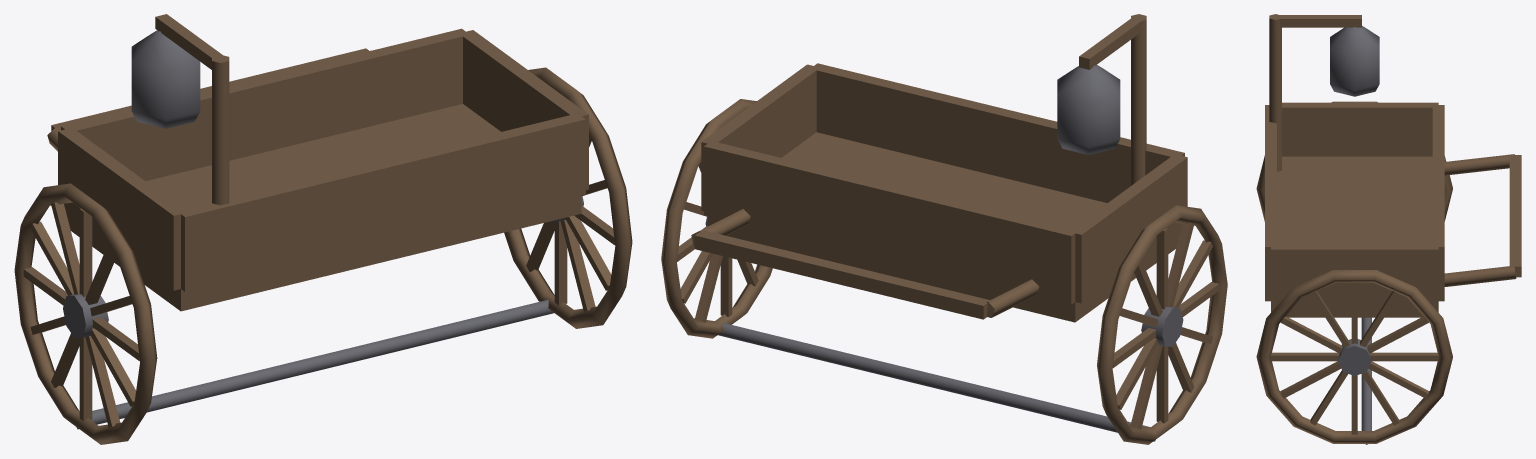
Rendered from LanternCart.fbx.
3 views of the same model, side by side, from view 1: azimuth 30°, elevation 25°; view 2: azimuth 150°, elevation 25°; view 3: azimuth 270°, elevation 25° (orthographic). The views are drawn at different scales.
Parts seen in each view (by area): view 1: LanternCart; view 2: LanternCart; view 3: LanternCart.
Boxes of the visible parts, x1=… form: LanternCart: x1=14, y1=14, x2=632, y2=444; LanternCart: x1=661, y1=14, x2=1227, y2=444; LanternCart: x1=1256, y1=14, x2=1521, y2=444.
Bounding box in the file's own units: 1.74 × 1.33 × 1.1.
